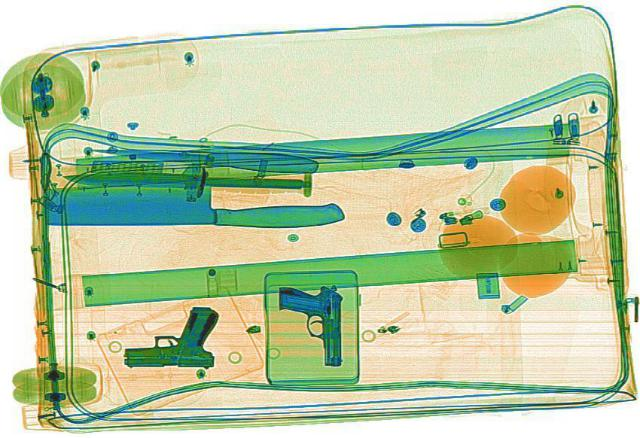Gun: (274, 282, 344, 363), (122, 305, 218, 364)
Knife: (43, 183, 345, 225), (89, 137, 319, 174), (62, 166, 300, 193)
